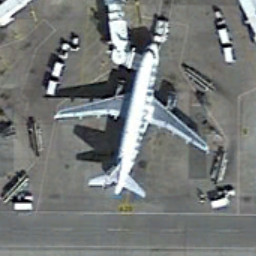Airplane: (45, 34, 218, 211)
